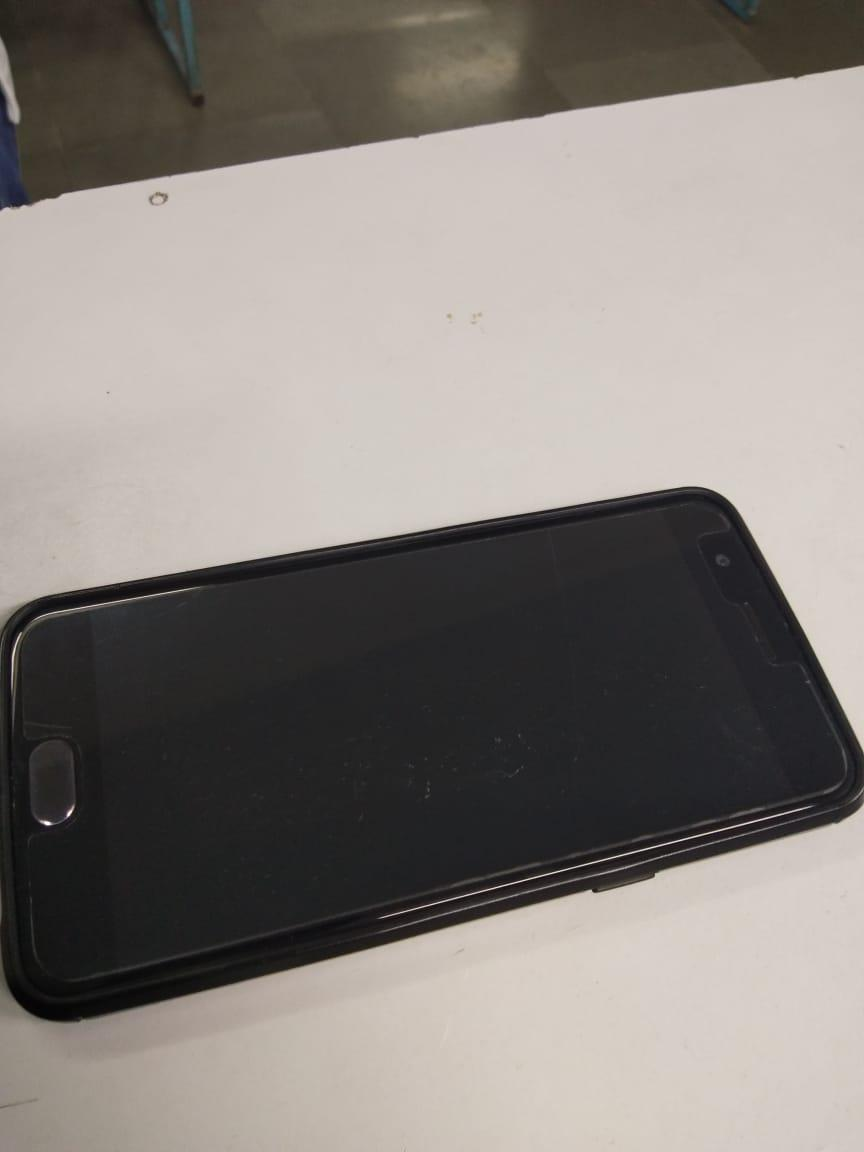Phone: (1, 467, 864, 1046)
